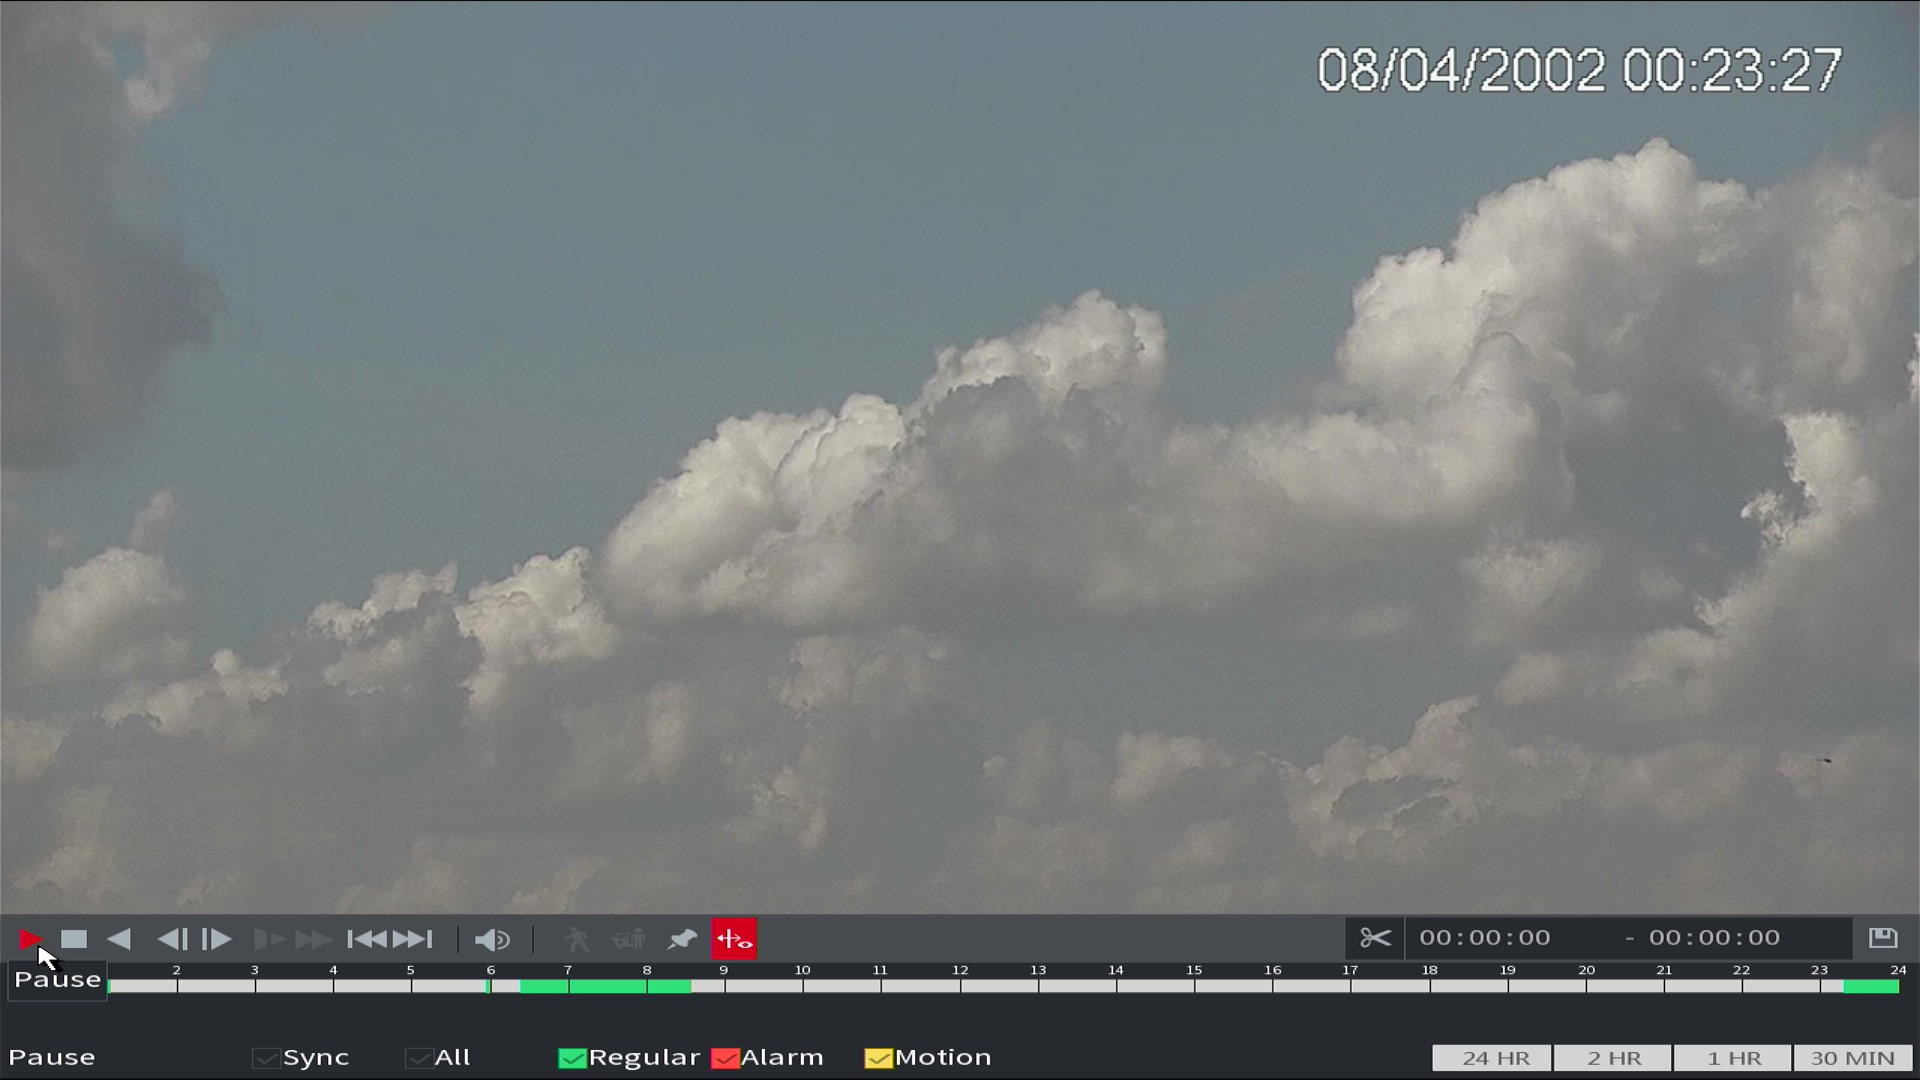SU_30: (1812, 752, 1834, 767)
